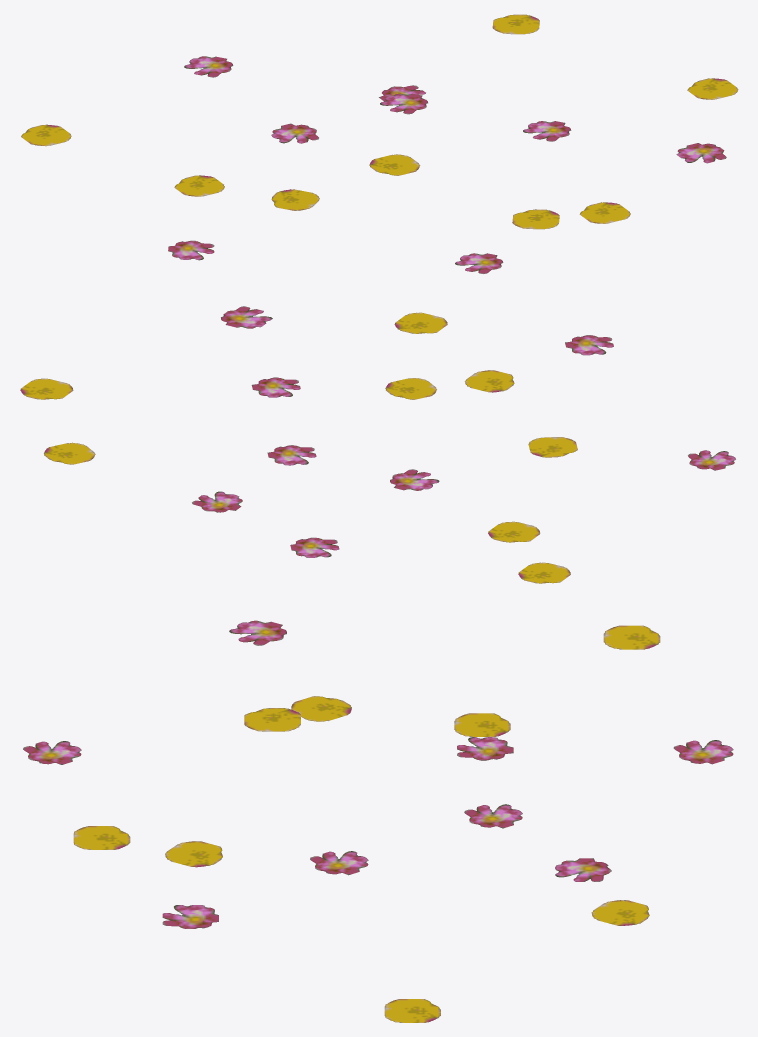
File: huaban3.FBX
3 renders of one model, top to bottom at view 1: azimuth 30°, elevation 25°; view 2: azimuth 150°, elevation 25°; view 3: azimuth 270°, elevation 25°, orthographic. The views are drawn at different scales.
Parts seen in each view (by area): view 1: SMDImport; view 2: SMDImport; view 3: SMDImport.
Part boxes in pixels (x1,y1,x2,y2): SMDImport: (21, 14, 738, 273); SMDImport: (20, 306, 735, 583); SMDImport: (23, 620, 733, 1022).
Size of the model in its own units: 676 by 58.74 by 559.
